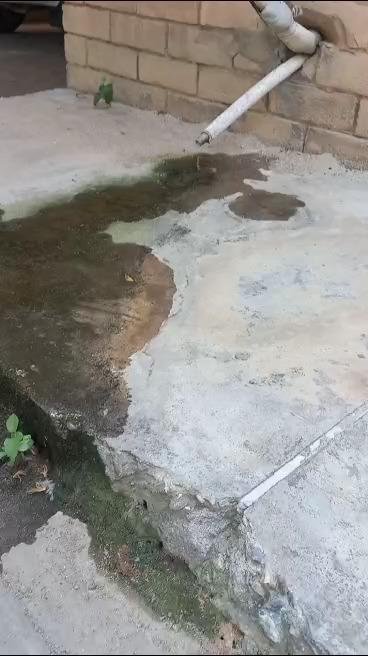water accumulation: (0, 146, 300, 628)
